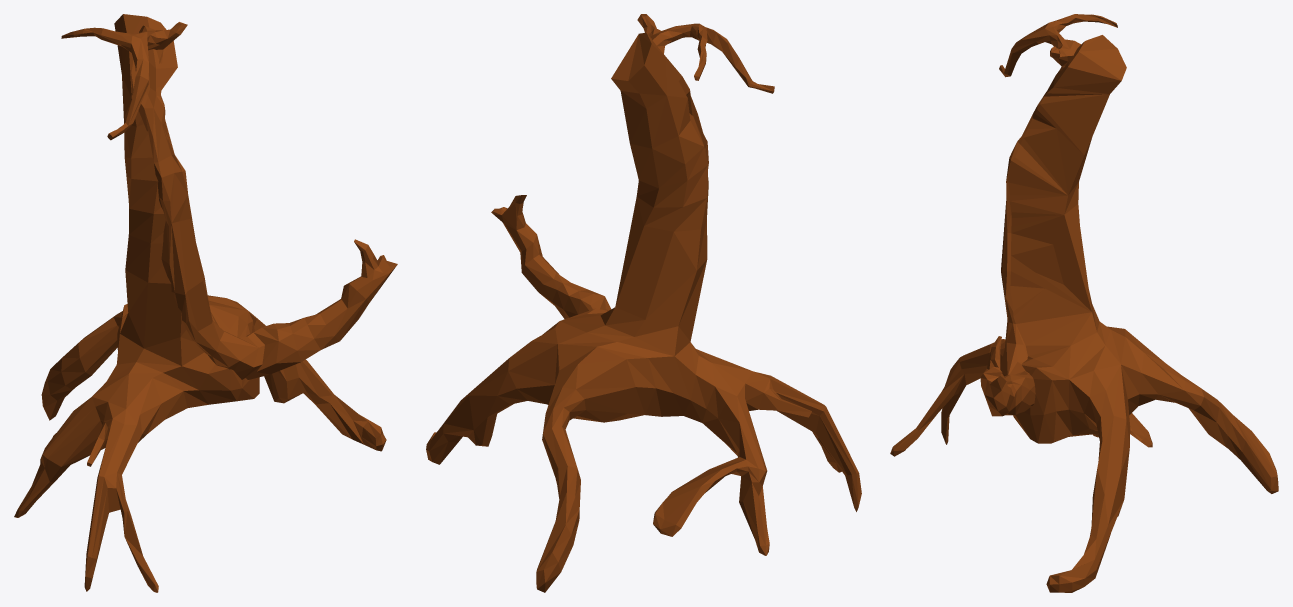
File: Vegetation_Tree_Trunk_Ancient_Gnarled_Large_01.FBX
3 renders of one model, left to right at view 1: azimuth 30°, elevation 25°; view 2: azimuth 150°, elevation 25°; view 3: azimuth 270°, elevation 25°, orthographic. The views are drawn at different scales.
Parts seen in each view (by area): view 1: Vegetation_Tree_Trunk_Ancient_Gnarled_Large_01; view 2: Vegetation_Tree_Trunk_Ancient_Gnarled_Large_01; view 3: Vegetation_Tree_Trunk_Ancient_Gnarled_Large_01.
Boxes of the visible parts, x1,y1,x2,y2 form: Vegetation_Tree_Trunk_Ancient_Gnarled_Large_01: (14, 14, 397, 592); Vegetation_Tree_Trunk_Ancient_Gnarled_Large_01: (426, 14, 861, 592); Vegetation_Tree_Trunk_Ancient_Gnarled_Large_01: (890, 14, 1278, 592).
Bounding box in the file's own units: 6945 × 9128 × 6840.
